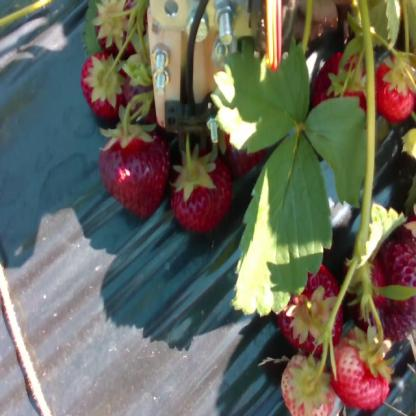ripe: (101, 133, 173, 215), (366, 249, 416, 338), (311, 50, 368, 118), (330, 337, 390, 401), (168, 156, 228, 220), (297, 270, 339, 336), (82, 52, 123, 113), (229, 110, 268, 169), (376, 61, 414, 117), (95, 4, 127, 49)
unripe: (285, 360, 333, 416)
